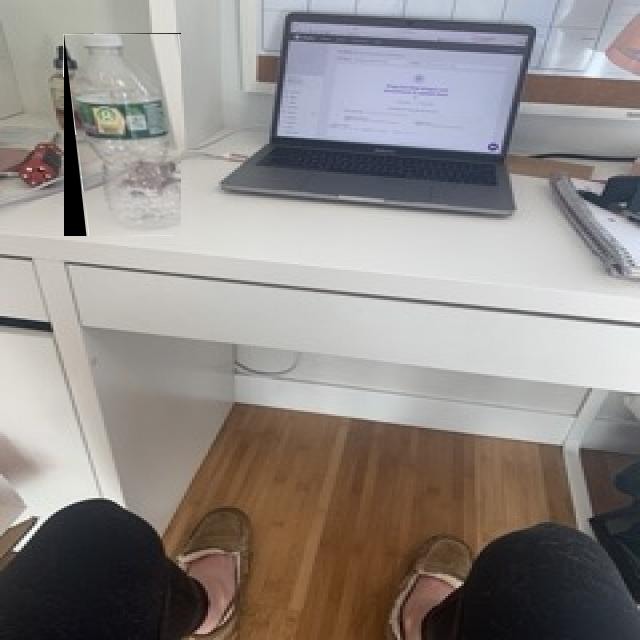water_bottle: (64, 33, 181, 236)
